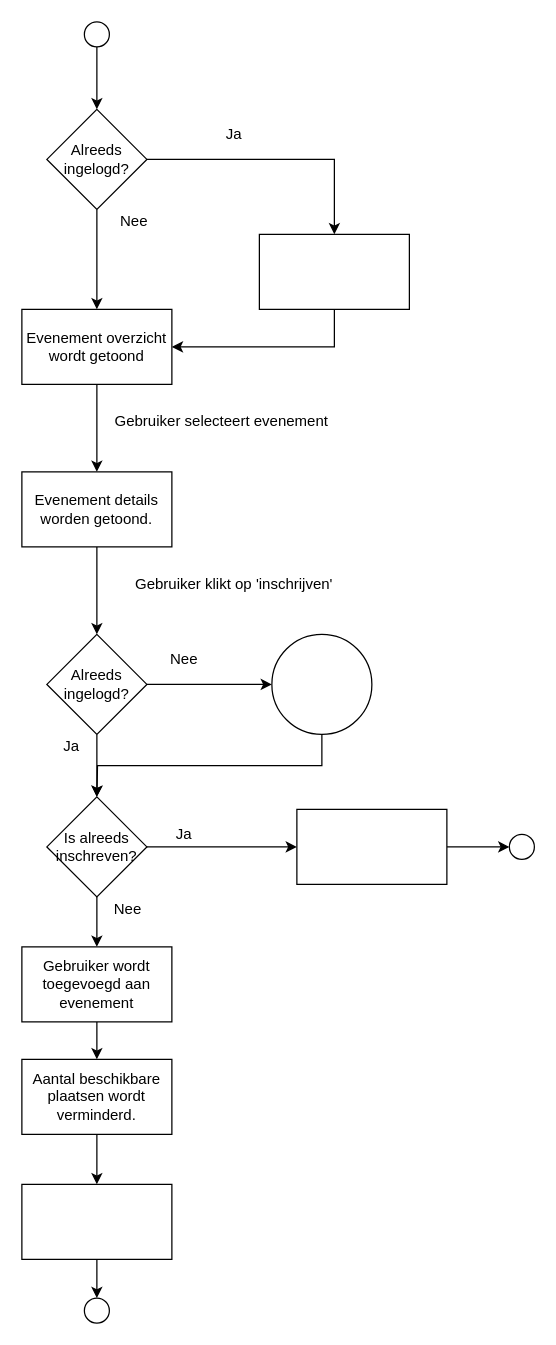
Image size: 556x1345. Some labels were removed from this diagram. The shapes that lost their labels are listed below. From the top down, each one's centre as x and y in pixels, then its label:
At [333,271]: "Haal evenementen op waar user voor ingeschreven is.".
At [321,683]: "Login module".
At [371,846]: "Melding aan gebruiker".
At [96,1221]: "Pagina wordt gefreshed".
